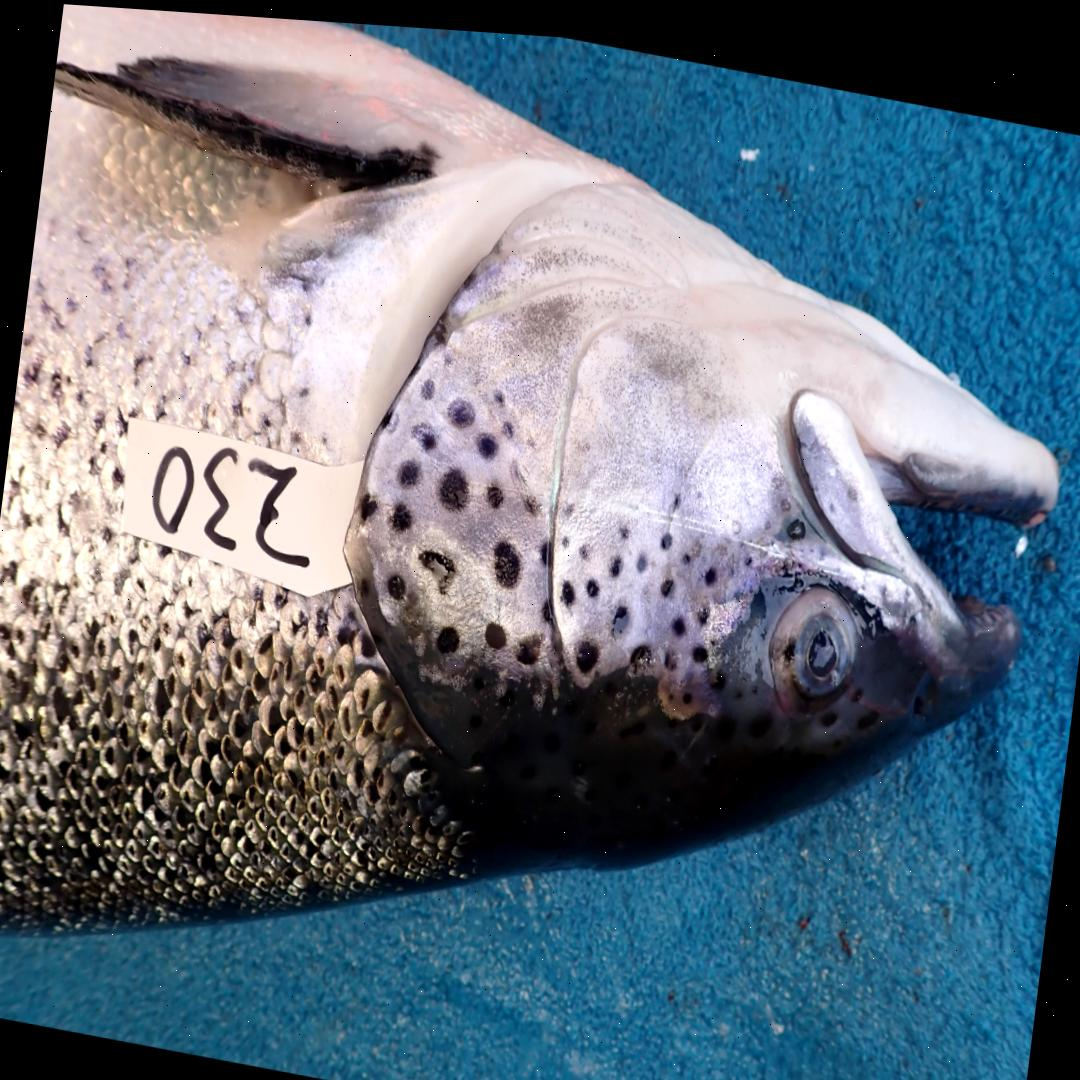spot: (418, 542, 454, 586), (437, 461, 468, 503), (492, 533, 519, 580), (776, 504, 805, 532), (447, 392, 474, 420), (514, 628, 540, 657), (575, 631, 597, 664), (434, 619, 459, 648), (411, 415, 435, 445), (376, 399, 398, 431), (387, 497, 410, 526), (483, 614, 505, 642), (397, 454, 420, 480), (522, 486, 543, 512), (610, 596, 628, 625), (476, 426, 496, 451), (692, 591, 711, 617), (628, 635, 649, 658), (358, 488, 376, 514), (386, 568, 404, 593), (485, 477, 503, 501), (679, 534, 698, 556), (661, 639, 680, 661), (701, 554, 719, 577), (559, 572, 574, 597), (576, 534, 592, 555), (667, 483, 682, 503), (419, 372, 433, 393), (490, 379, 504, 400), (540, 592, 552, 616), (558, 493, 573, 511), (615, 515, 630, 533), (538, 533, 549, 557), (608, 547, 621, 567), (584, 571, 598, 589), (692, 635, 706, 653), (658, 522, 672, 540), (659, 567, 671, 587), (671, 607, 684, 625), (500, 413, 512, 431), (635, 544, 646, 562), (742, 542, 752, 555), (560, 528, 568, 540)
